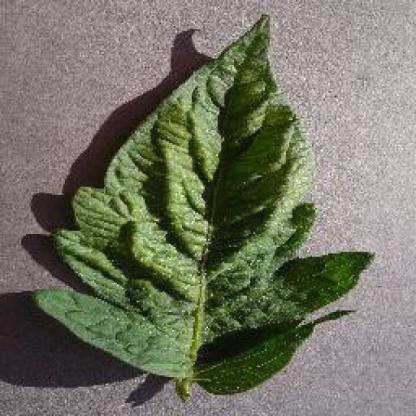Tomato_Spider_Mites: (32, 15, 372, 391)
